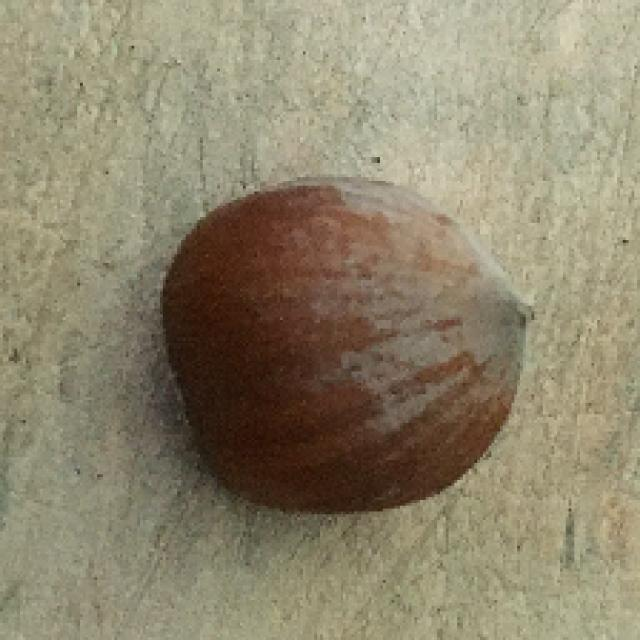qualityHazelnut: (155, 173, 532, 513)
